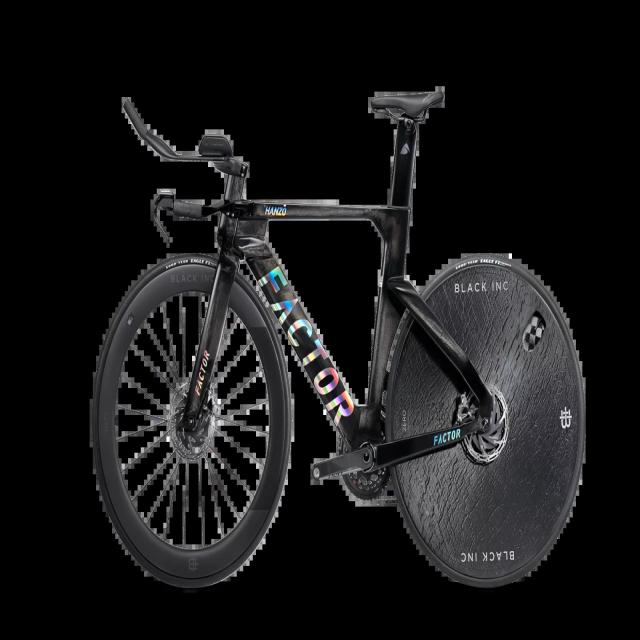TT-bike: (90, 92, 589, 590)
